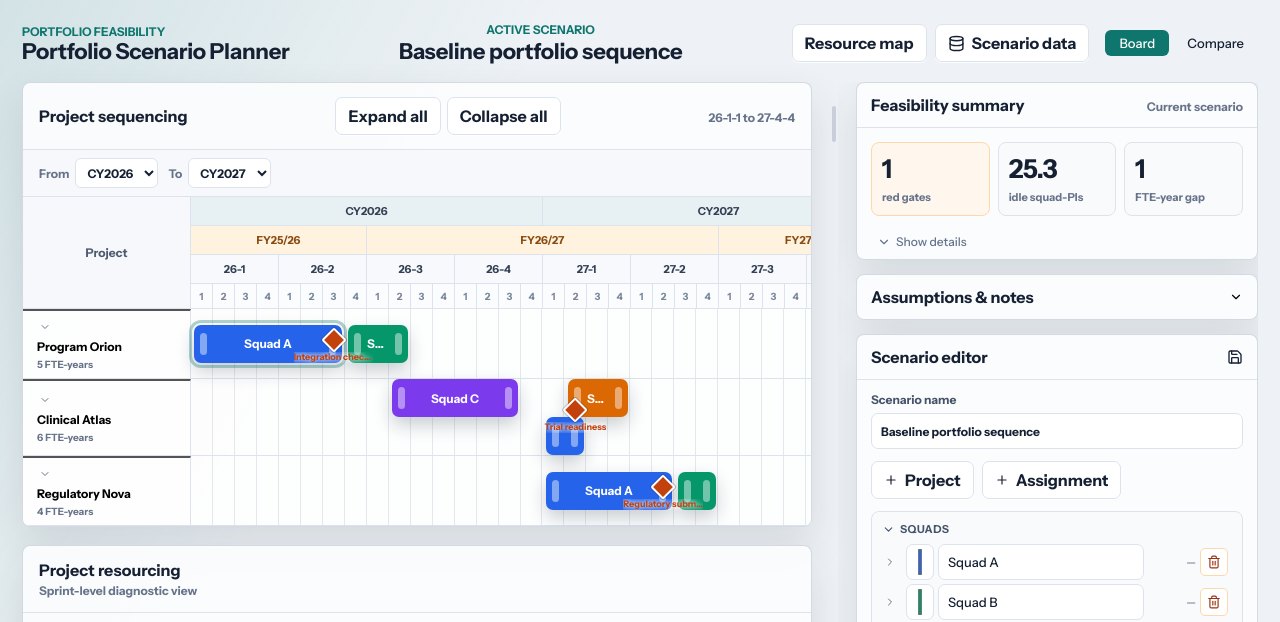
Test case: Portfolio Scenario Planner app › creates a squad assignment by dragging across empty project space
Press the mouse on the element with test id "track-clinical-atlas" at coordinates (543, 418), box [191, 379, 895, 456]
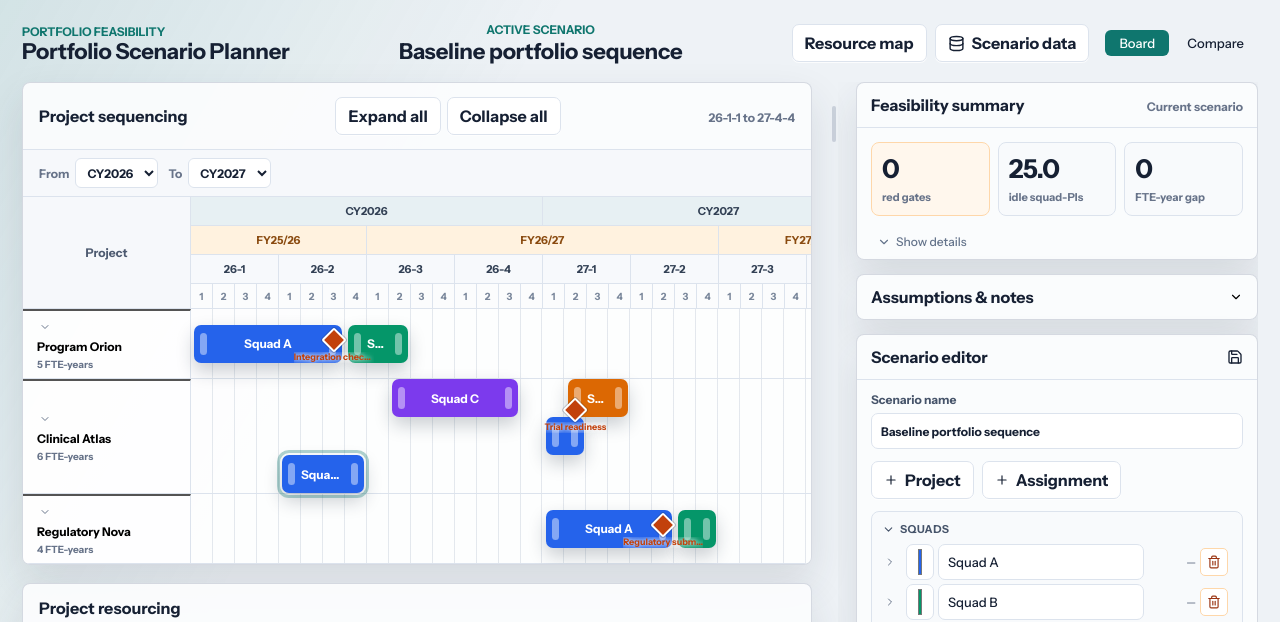
Check: the button with aria-label "Squad A on Clinical Atlas, 26-2-1 to 26-2-4" is shown, box [282, 455, 364, 493]
